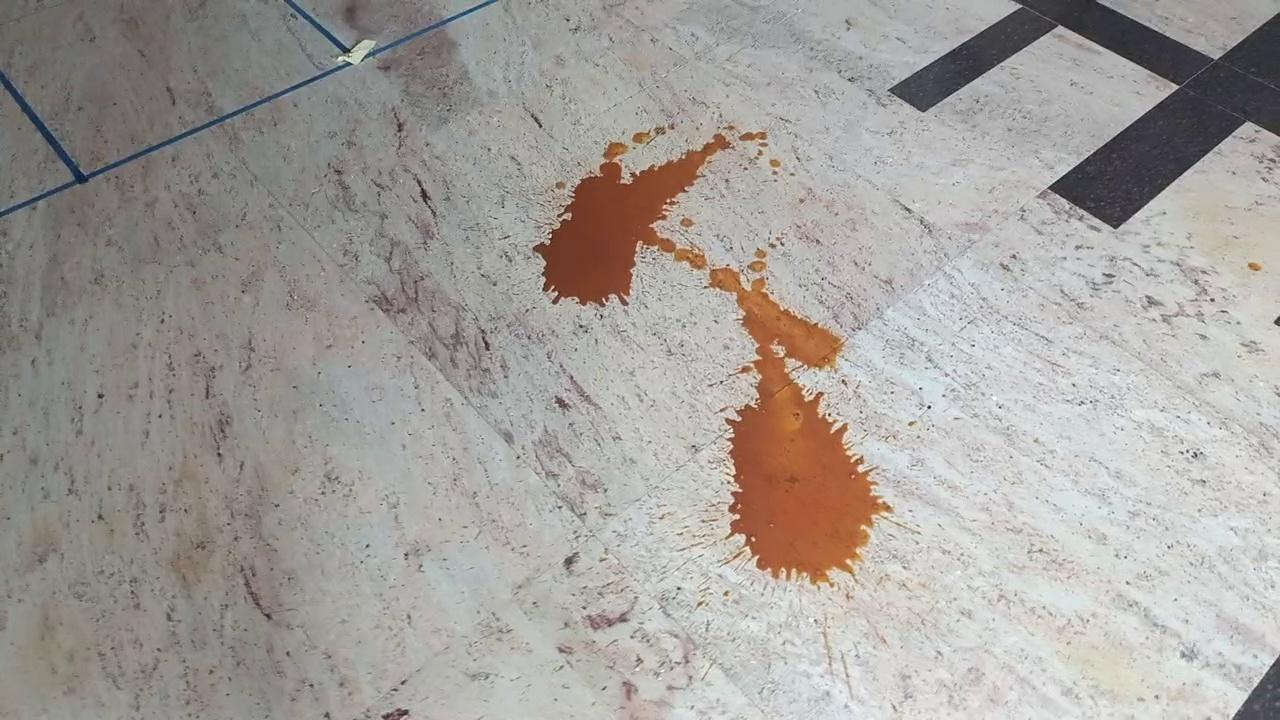dirty_floor: (536, 115, 904, 584)
